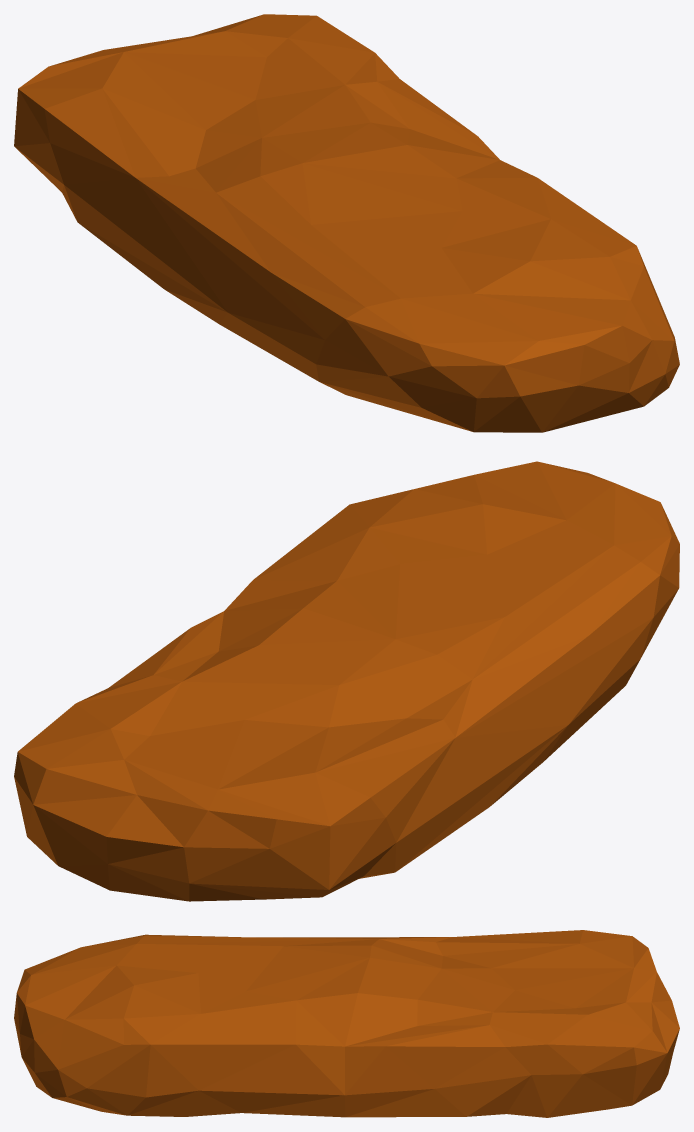
File: Boulder_4.fbx
The picture shows the model from 3 angles, top to bottom: view 1: azimuth 30°, elevation 25°; view 2: azimuth 150°, elevation 25°; view 3: azimuth 270°, elevation 25°; orthographic projection. The views are drawn at different scales.
Visible parts, largest first — view 1: Boulder_4; view 2: Boulder_4; view 3: Boulder_4.
Boxes of the visible parts, x1,y1,x2,y2 form: Boulder_4: (14,14,679,432); Boulder_4: (14,461,679,901); Boulder_4: (14,930,679,1117).
Size of the model in its own units: 296 by 118 by 699.
